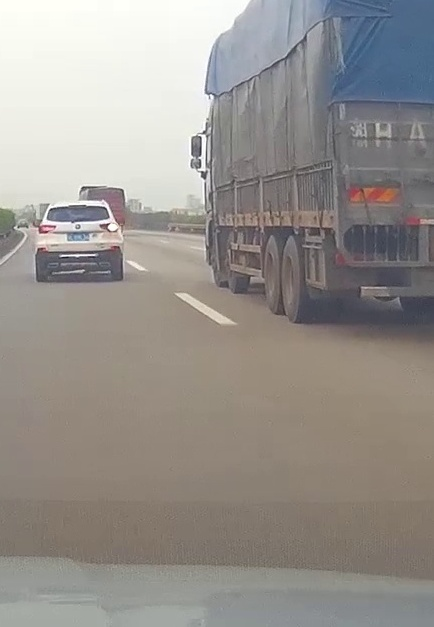L_light: (39, 225, 57, 234)
R_light: (100, 222, 119, 232)
T_light: (69, 204, 86, 208)
day-right: (34, 200, 123, 282)
